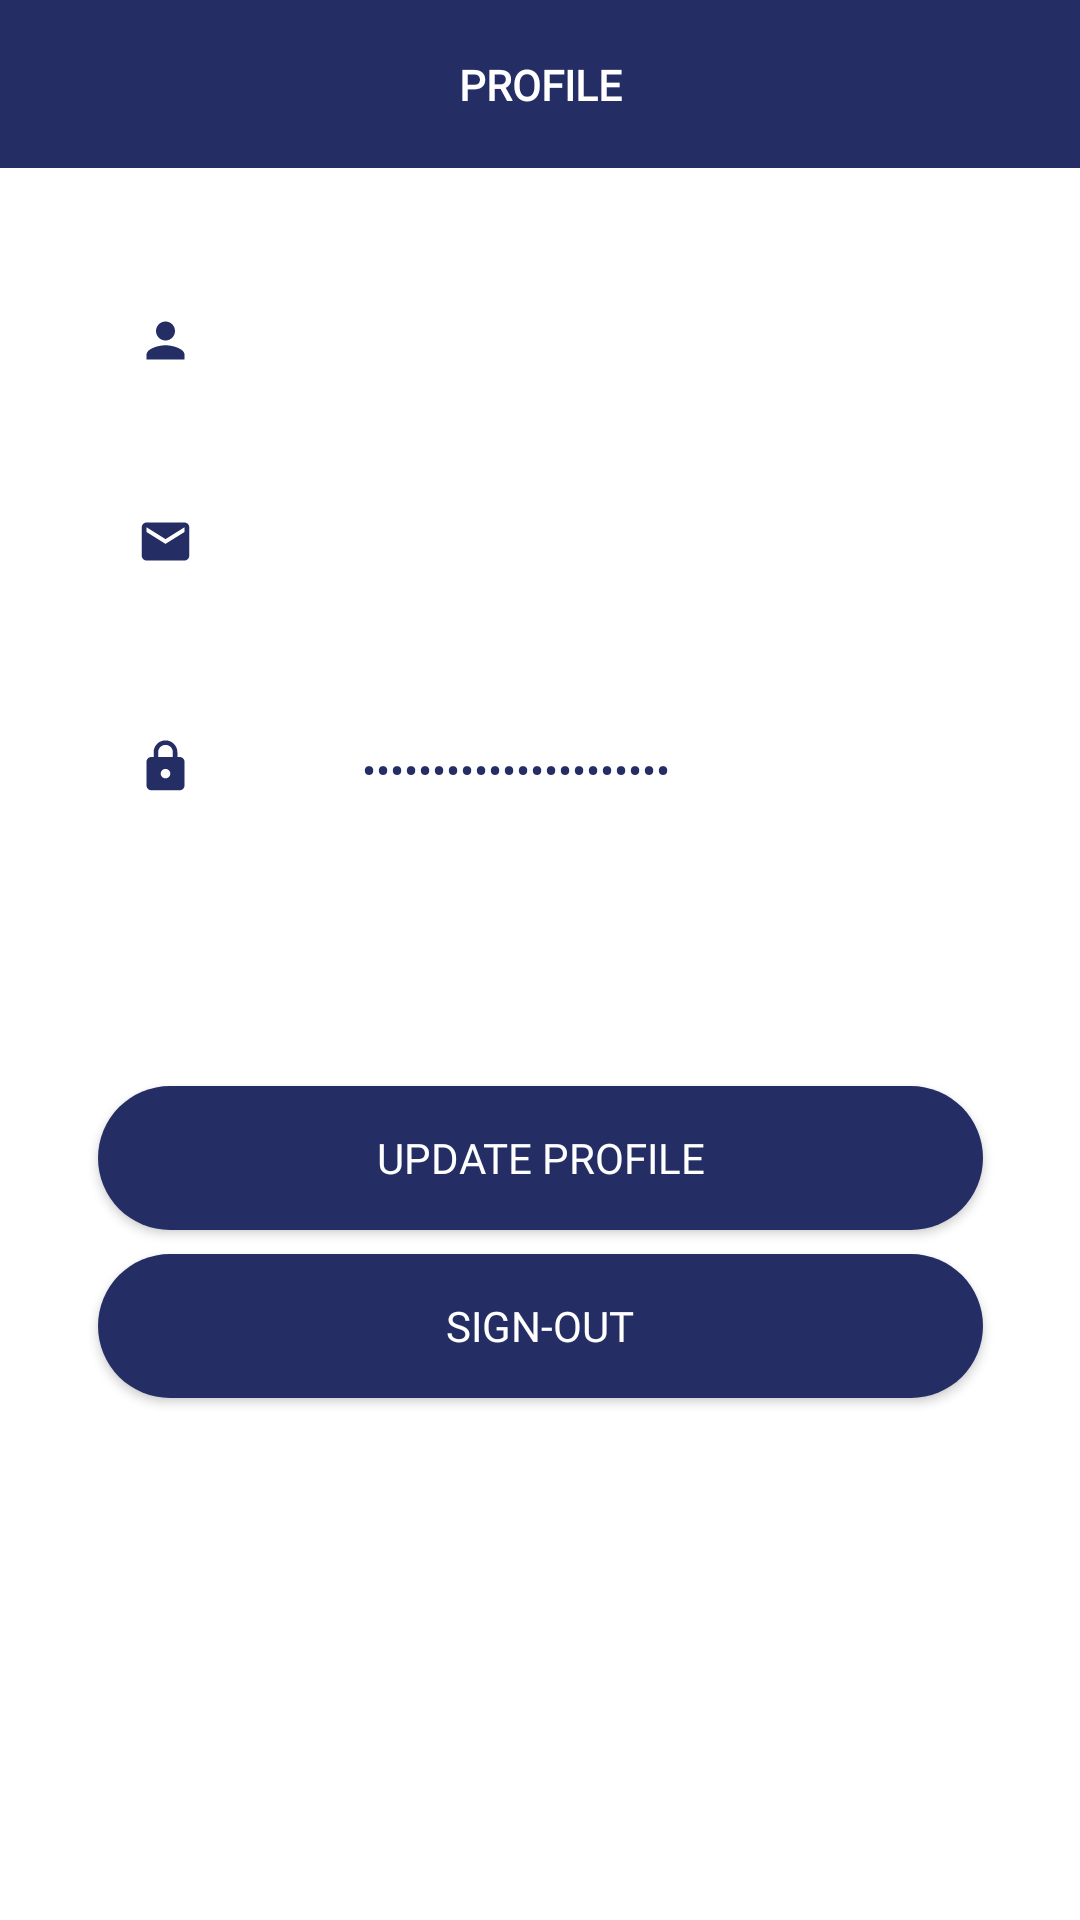

Locate icon controls on the screen. Image size 1080 × 1920, boxes as {"left": x1, "top": y1, "right": x2, "bottom": y2}.
email: {"left": 141, "top": 522, "right": 190, "bottom": 561}
lock: {"left": 146, "top": 740, "right": 185, "bottom": 791}
person: {"left": 146, "top": 321, "right": 185, "bottom": 360}
